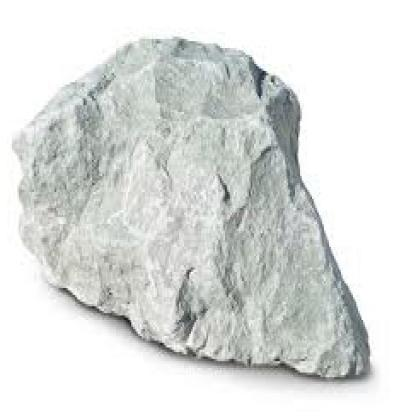Metamorphic_Marble: (2, 23, 384, 372)
